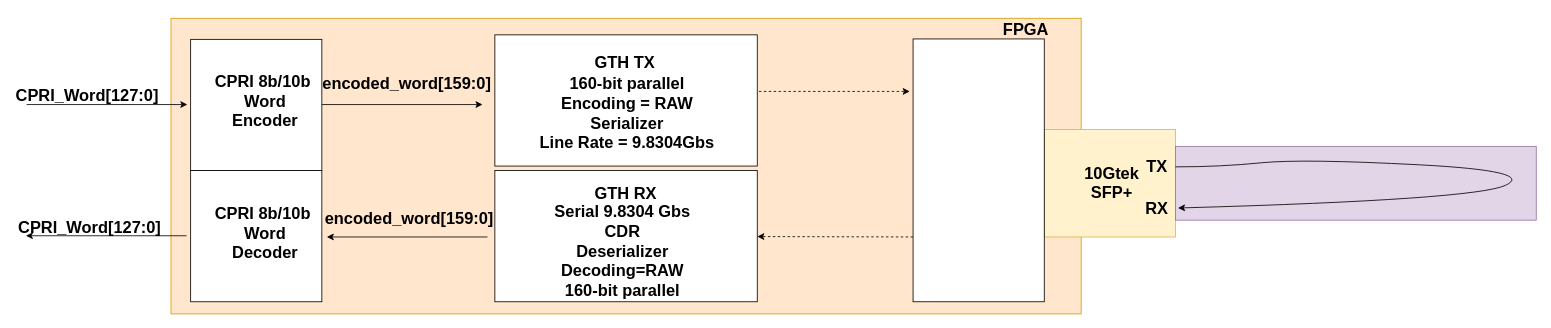
Image size: 1551x328. Some labels were removed from this diagram. Here are the shapes that lost their labels. From the top down, the centre of each, then its label:
At (978,170): "J23".
At (1355,183): "Buacoz optical loopback".
